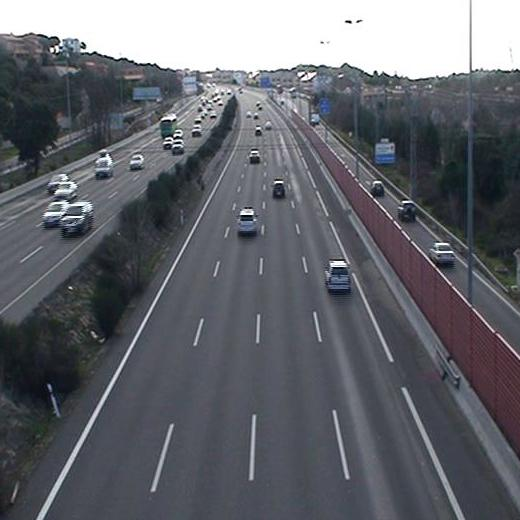car: (321, 255, 354, 296), (234, 205, 261, 238), (271, 179, 289, 201), (247, 147, 263, 167)
